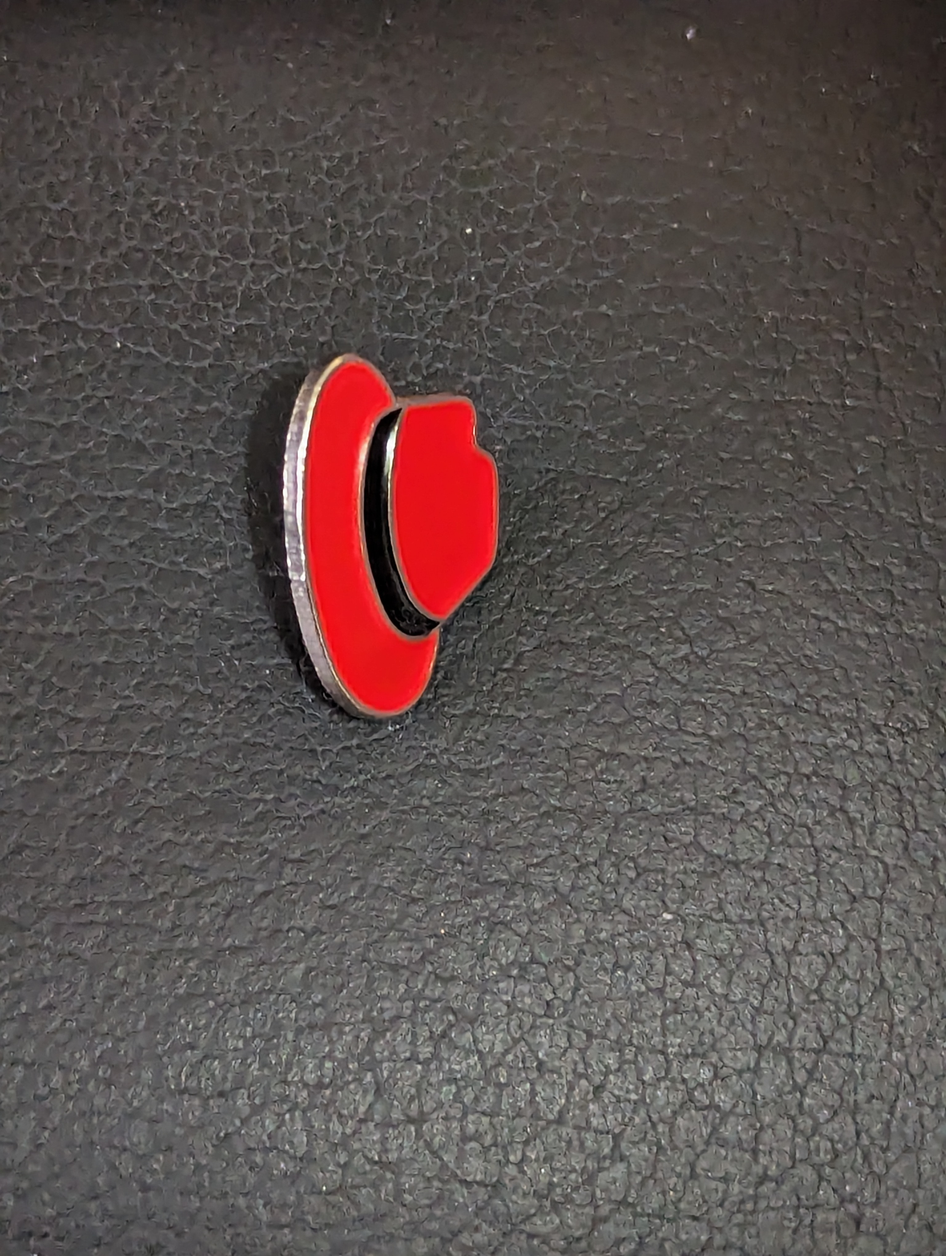Red-Hat: (173, 264, 683, 820)
